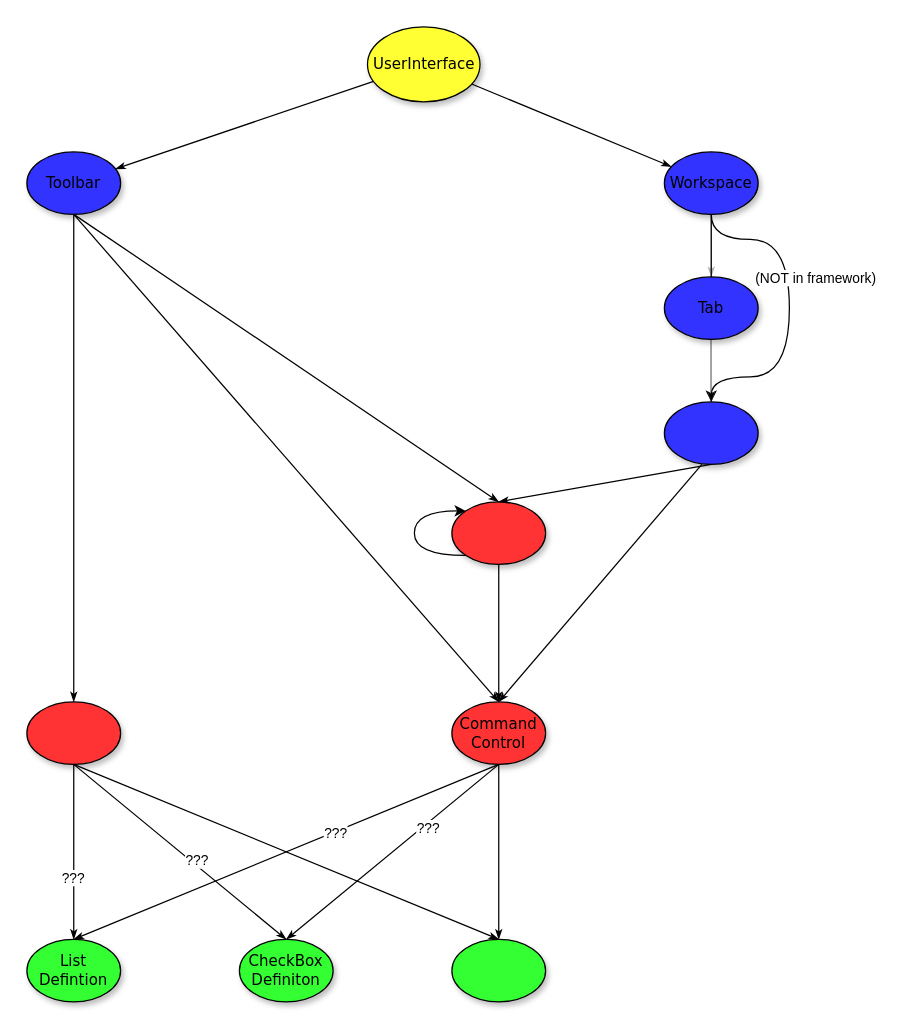
Some shapes in this 898 by 1033 pixel diagram are drawn without their labels. Each missing label, with the centre of its shape:
"Button Defintion" goes at [499,972].
"Dropdown" goes at [499,534].
"Panel" goes at [712,434].
"SplitButton Control" goes at [74,734].
